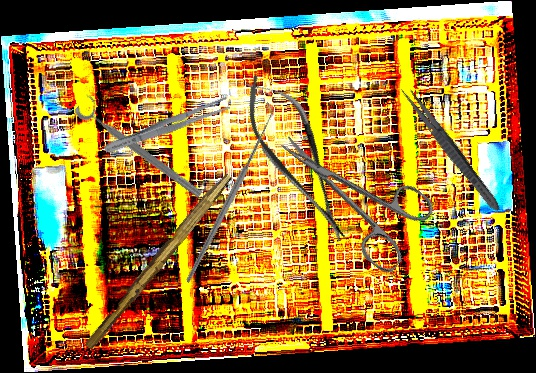Dressing Forceps: (396, 82, 505, 216), (101, 94, 232, 158)
Fixation Ring: (72, 92, 211, 202)
Hook Surgical: (129, 102, 327, 283)
Iris Scissors: (259, 105, 443, 277)
Micro Scissor: (228, 62, 366, 255)
Scalpel Handle: (83, 168, 233, 354)
